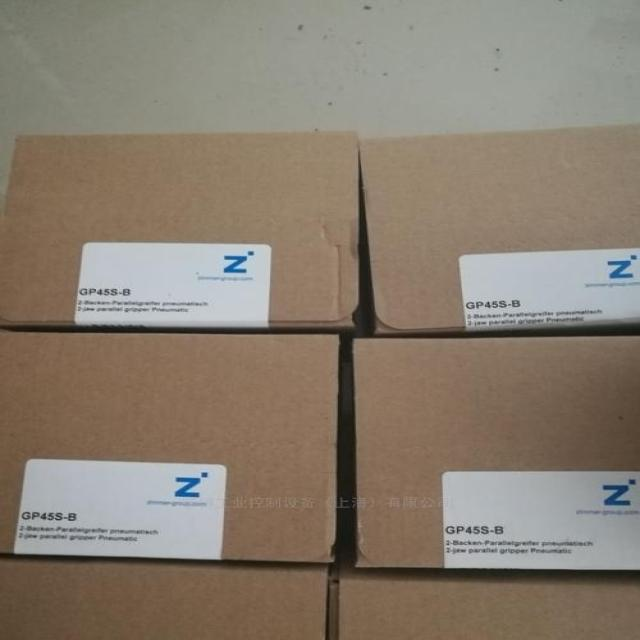box: (0, 331, 340, 566), (0, 131, 360, 329), (353, 337, 640, 570), (356, 123, 640, 338), (0, 557, 330, 640), (329, 568, 640, 640)
